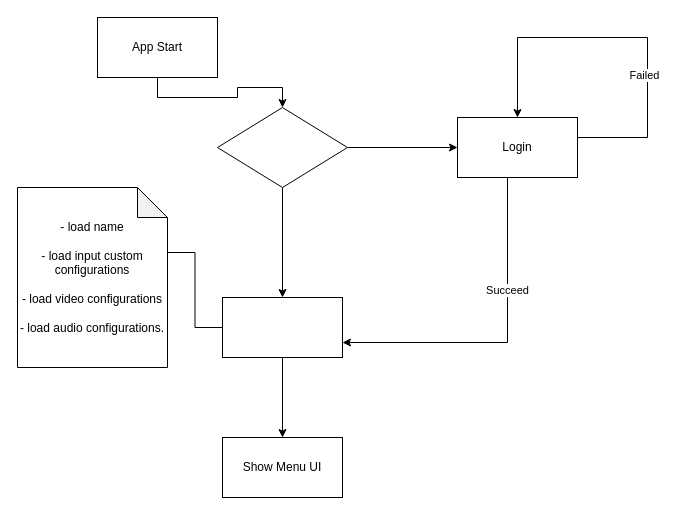
This 676x515 diagram has some shape labels left out. The shapes that lost their labels are listed below. From the top down, each one's centre as x and y in pixels, then its label:
(282,147): Authenticated
(282,327): Setup
